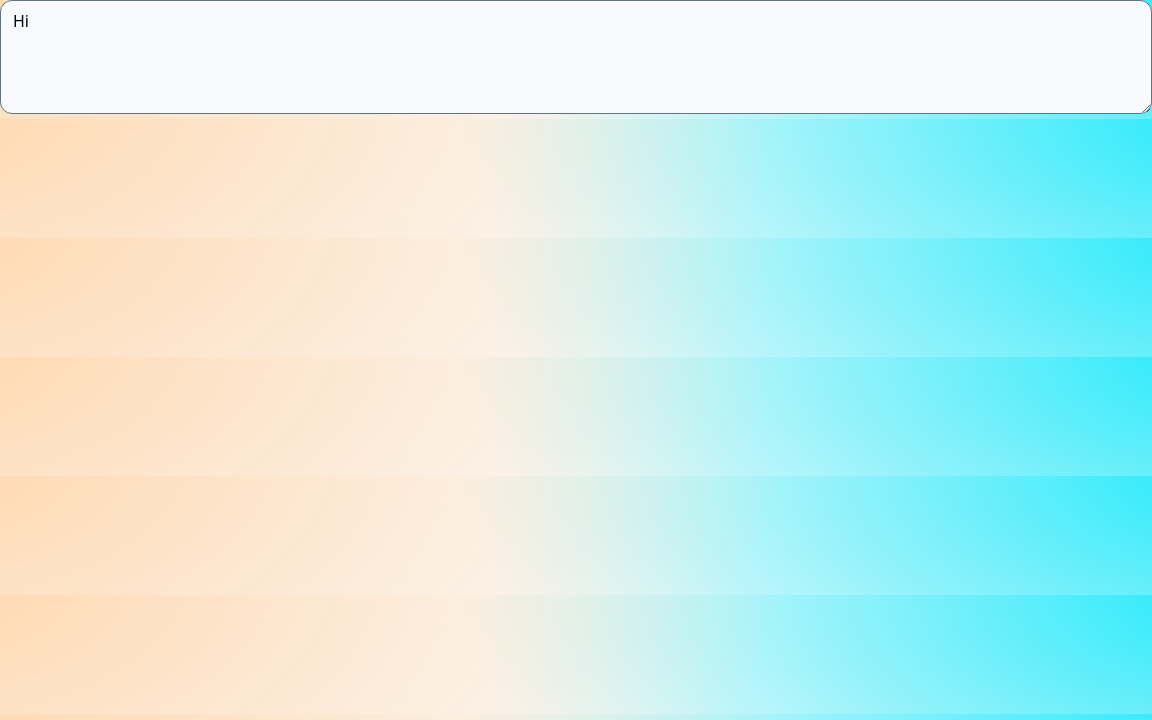
Test: Textarea › неуправляемый режим: defaultValue и ввод
The width and height of the screenshot is (1152, 720).
Type " there" into the text box named "Bio" at {"x": 576, "y": 57}, box [0, 0, 1151, 114]
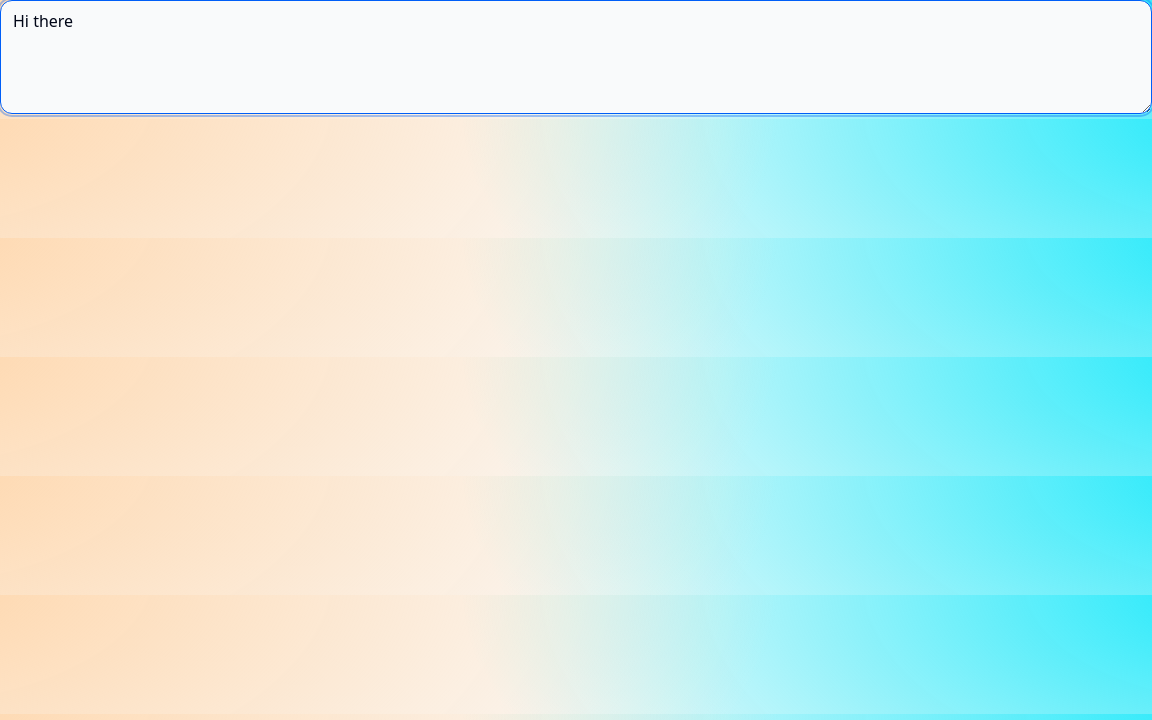
Expected: the text box named "Bio" holds "Hi there", [0, 0, 1151, 114]
